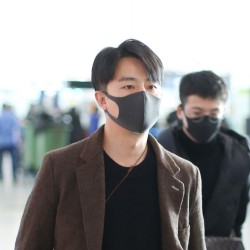mask: (98, 90, 164, 136)
